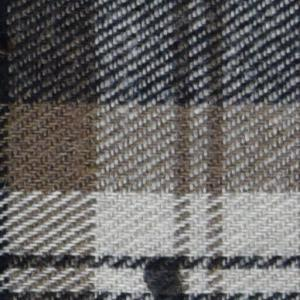Stain: (133, 249, 198, 300)
